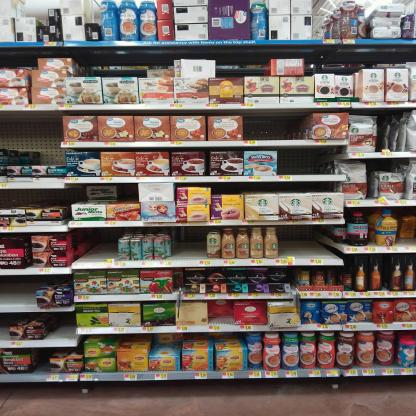empty_space: (244, 108, 278, 139), (279, 108, 312, 139), (278, 146, 314, 174), (314, 145, 347, 174), (313, 0, 334, 39), (47, 312, 75, 339), (16, 275, 37, 304), (174, 226, 191, 259), (314, 224, 330, 259), (102, 227, 118, 261), (280, 225, 296, 258), (191, 226, 207, 258), (0, 275, 17, 305), (297, 225, 312, 258), (73, 227, 87, 262), (331, 224, 345, 258), (88, 226, 101, 261), (34, 346, 49, 373), (0, 313, 10, 340)
